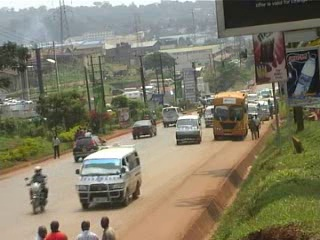Car: (69, 133, 109, 164), (129, 117, 158, 140)
Motorcycle: (20, 170, 52, 216)
